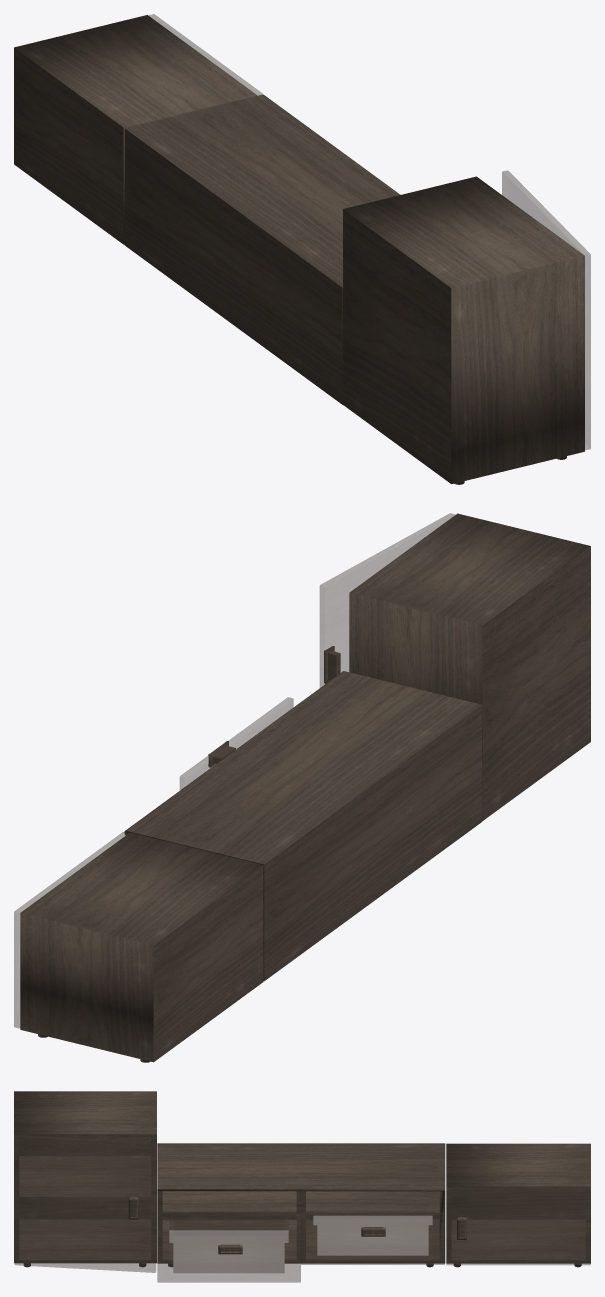
The model's file is tvstand.glb.
3 views of the same model, one above another, from view 1: azimuth 30°, elevation 25°; view 2: azimuth 150°, elevation 25°; view 3: azimuth 270°, elevation 25° (orthographic). The views are drawn at different scales.
Parts seen in each view (by area): view 1: TV Furniture; view 2: TV Furniture; view 3: TV Furniture.
Boxes of the visible parts, x1,y1,x2,y2 form: TV Furniture: [14, 14, 590, 484]; TV Furniture: [14, 513, 590, 1062]; TV Furniture: [14, 1091, 590, 1282].
Bounding box in the file's own units: 0.611 × 0.5714 × 2.2.
Materials: 2 (2 with a texture image).
